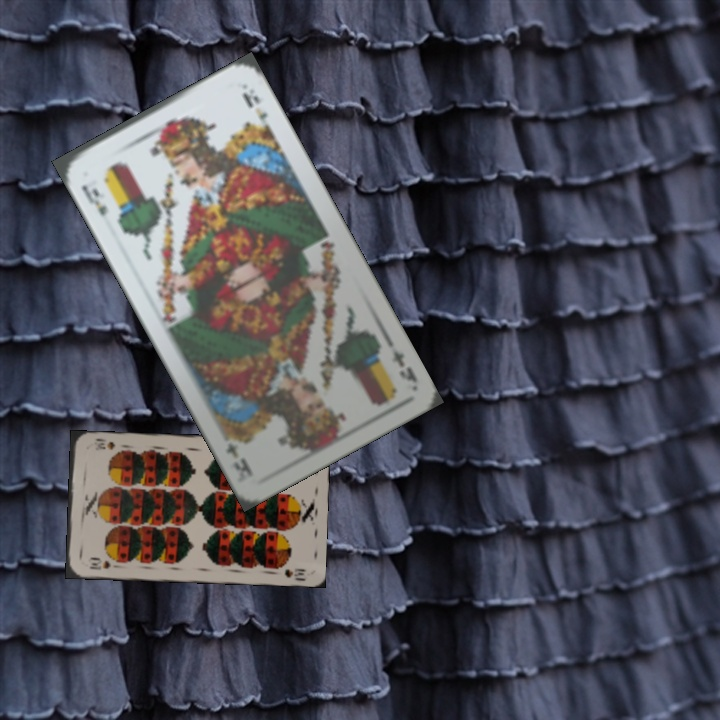EK: (381, 334, 420, 385), (77, 181, 110, 219)
S10: (86, 555, 121, 572)
